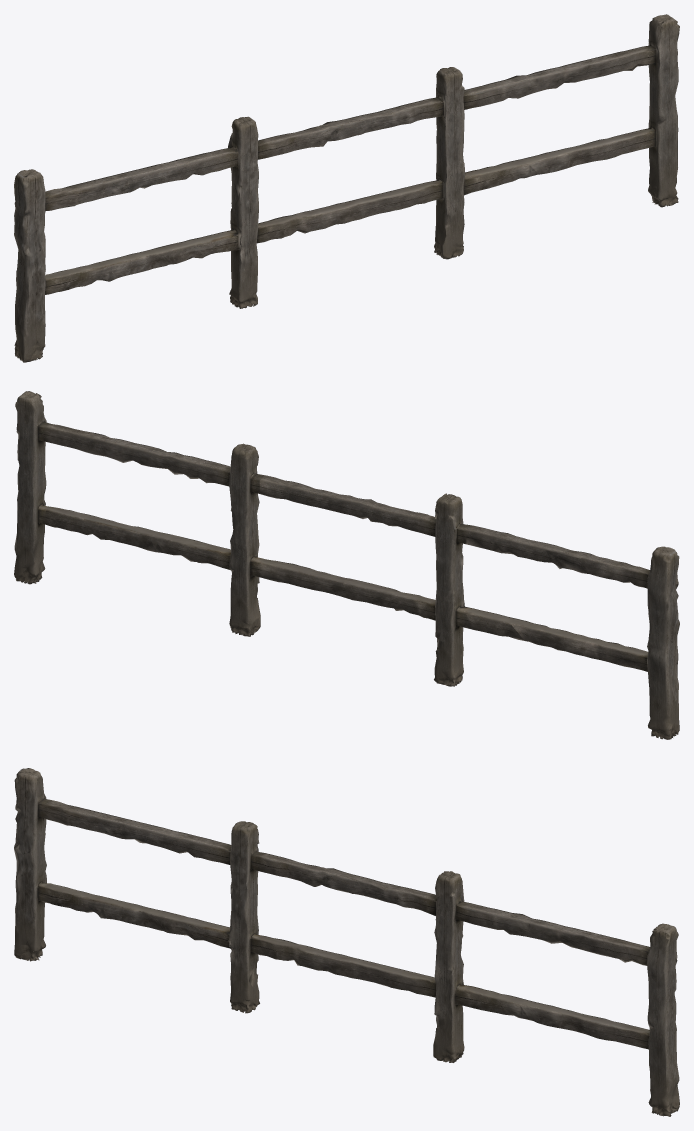
File: des-fence-intact_optimized.glb
3 renders of one model, top to bottom at view 1: azimuth 30°, elevation 25°; view 2: azimuth 150°, elevation 25°; view 3: azimuth 330°, elevation 25°, orthographic.
Parts seen in each view (by area): view 1: Mesh_0; view 2: Mesh_0; view 3: Mesh_0.
Part boxes in pixels (left/top/right/bottom): Mesh_0: left=14, top=14, right=679, bottom=362; Mesh_0: left=14, top=391, right=679, bottom=739; Mesh_0: left=14, top=768, right=679, bottom=1116.
Size of the model in its own units: 0.9575 by 0.2578 by 0.0347.
Materials: 1 (1 with a texture image).
